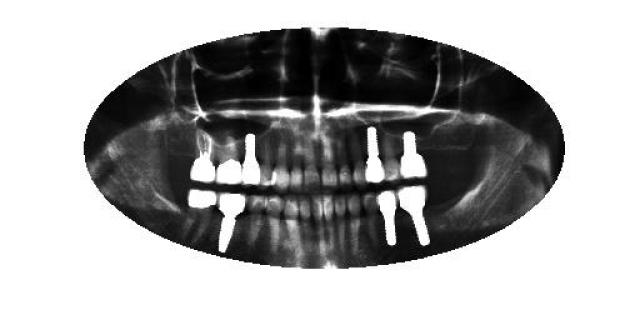Fillings: (182, 189, 220, 245), (218, 135, 242, 185)
Implant: (398, 186, 430, 245), (216, 194, 248, 252), (396, 128, 429, 178), (376, 188, 400, 252), (189, 130, 216, 182), (360, 126, 385, 182), (240, 130, 261, 184)
